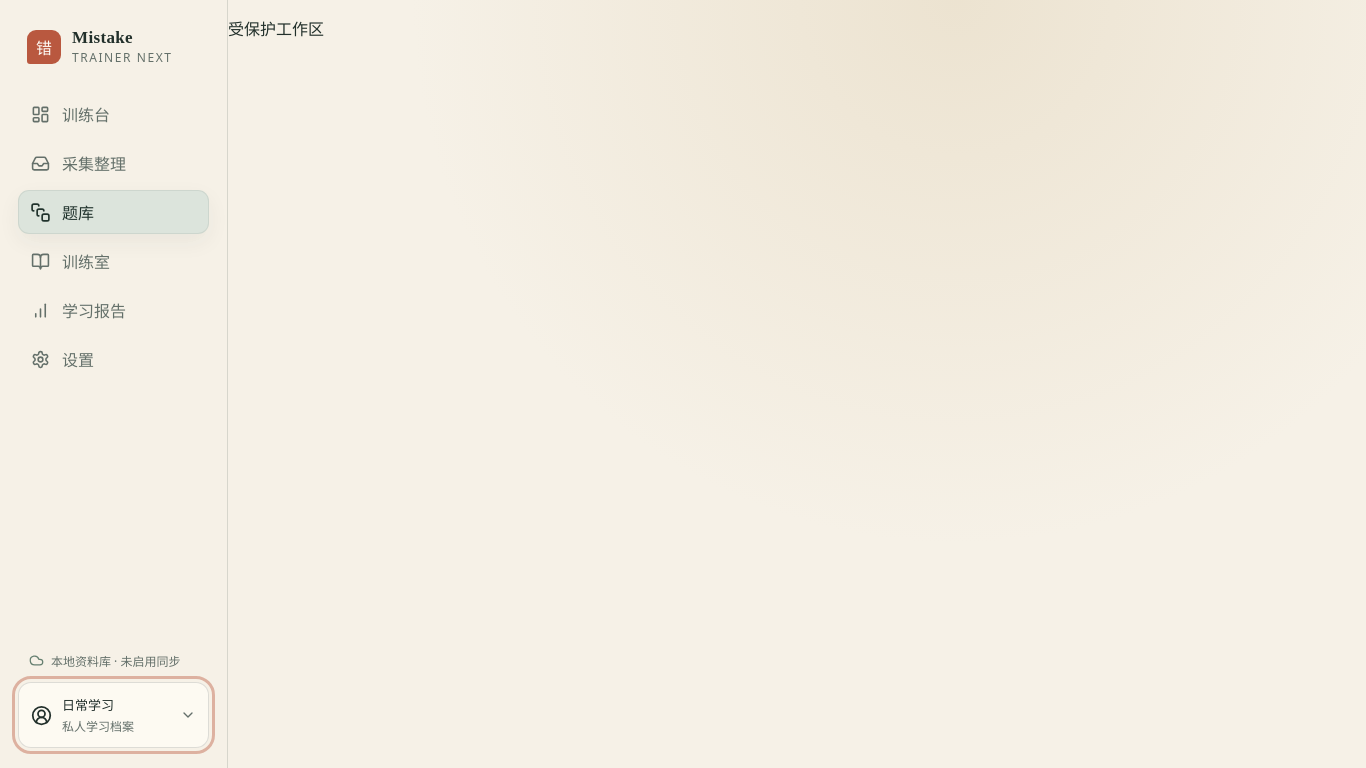
Test: App profile orchestration › keeps the current profile and route when the active workspace cancels a switch
Click the button with aria-label "当前学习档案：日常学习" at (114, 715), box 18,682 -> 209,748
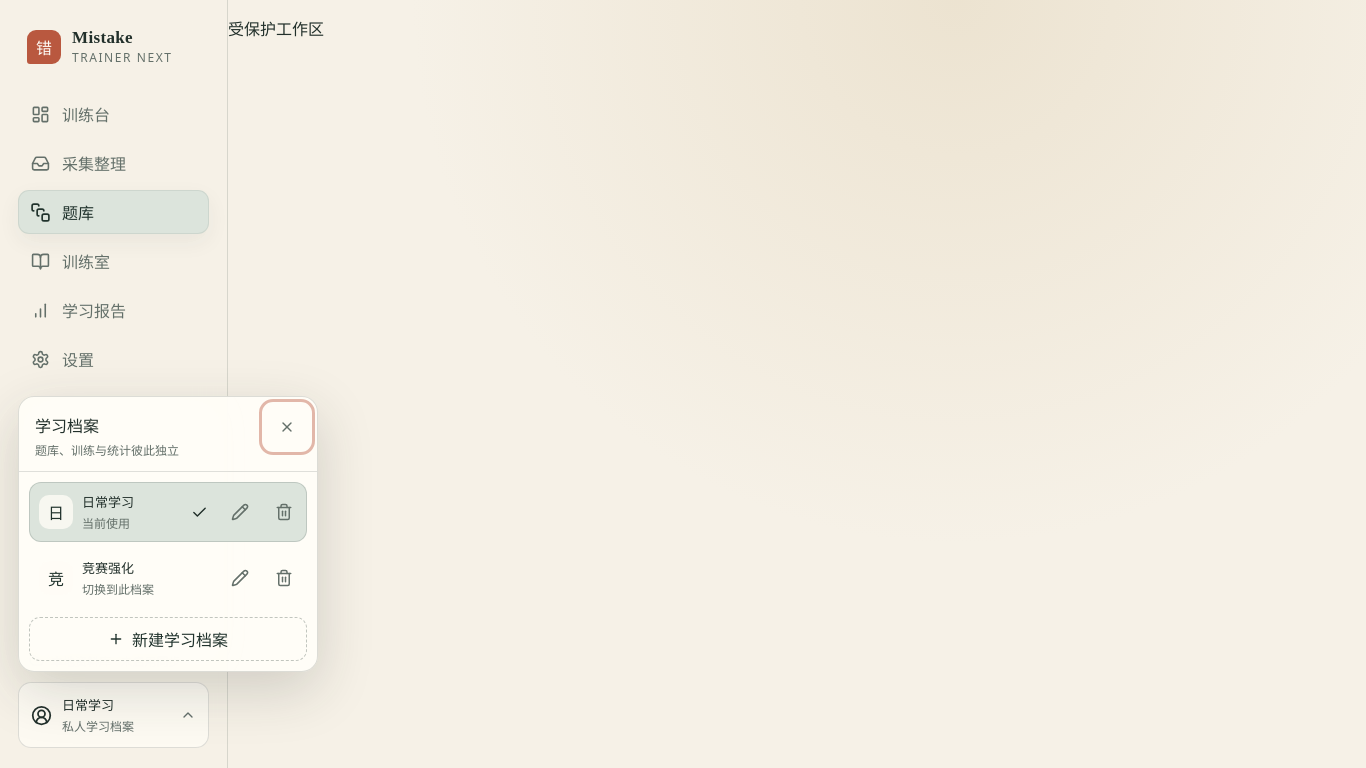
Click the button with aria-label "切换到档案：竞赛强化" at (124, 578), box 30,549 -> 218,607
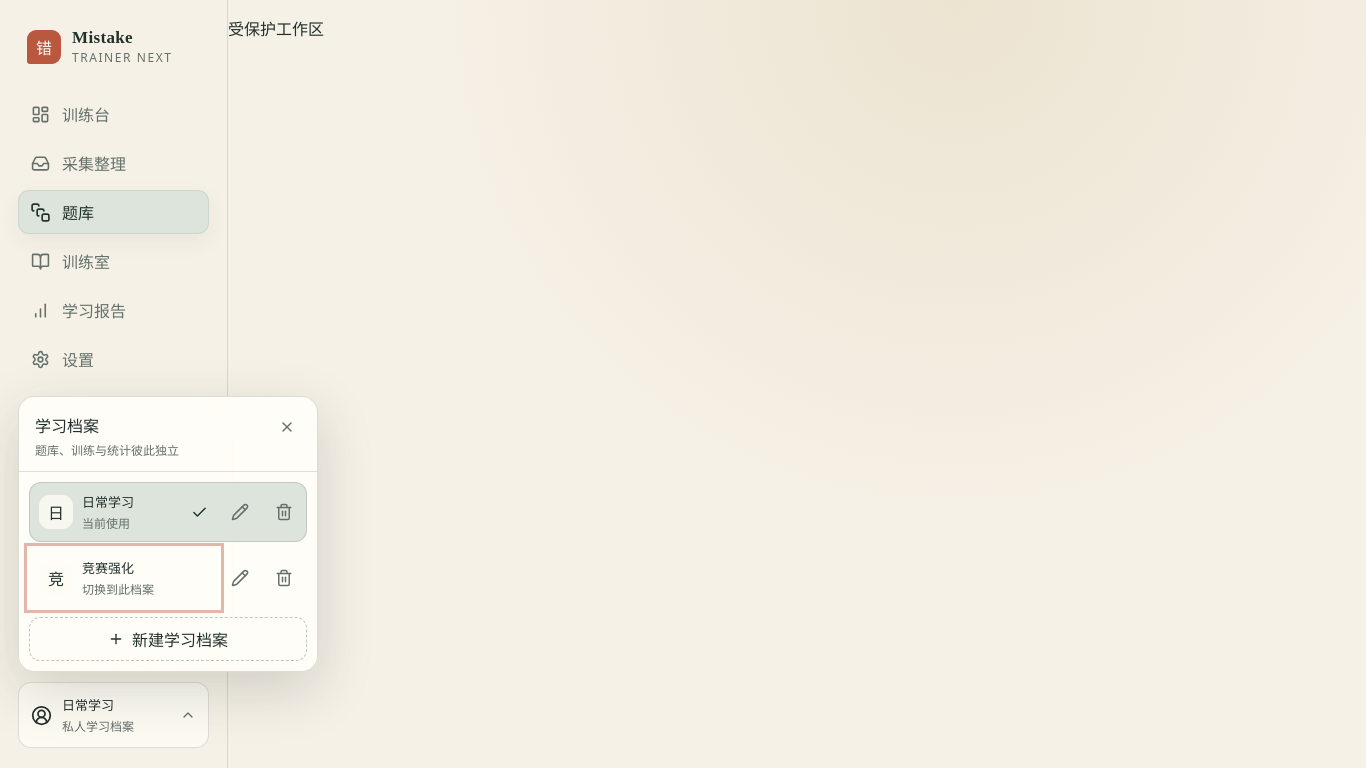
Expected: the button with aria-label "当前学习档案：日常学习" is shown, 18,682 -> 209,748
Expected: the button with aria-label "切换到档案：竞赛强化" is enabled
Click the button with aria-label "切换到档案：竞赛强化" at (124, 578), box 30,549 -> 218,607
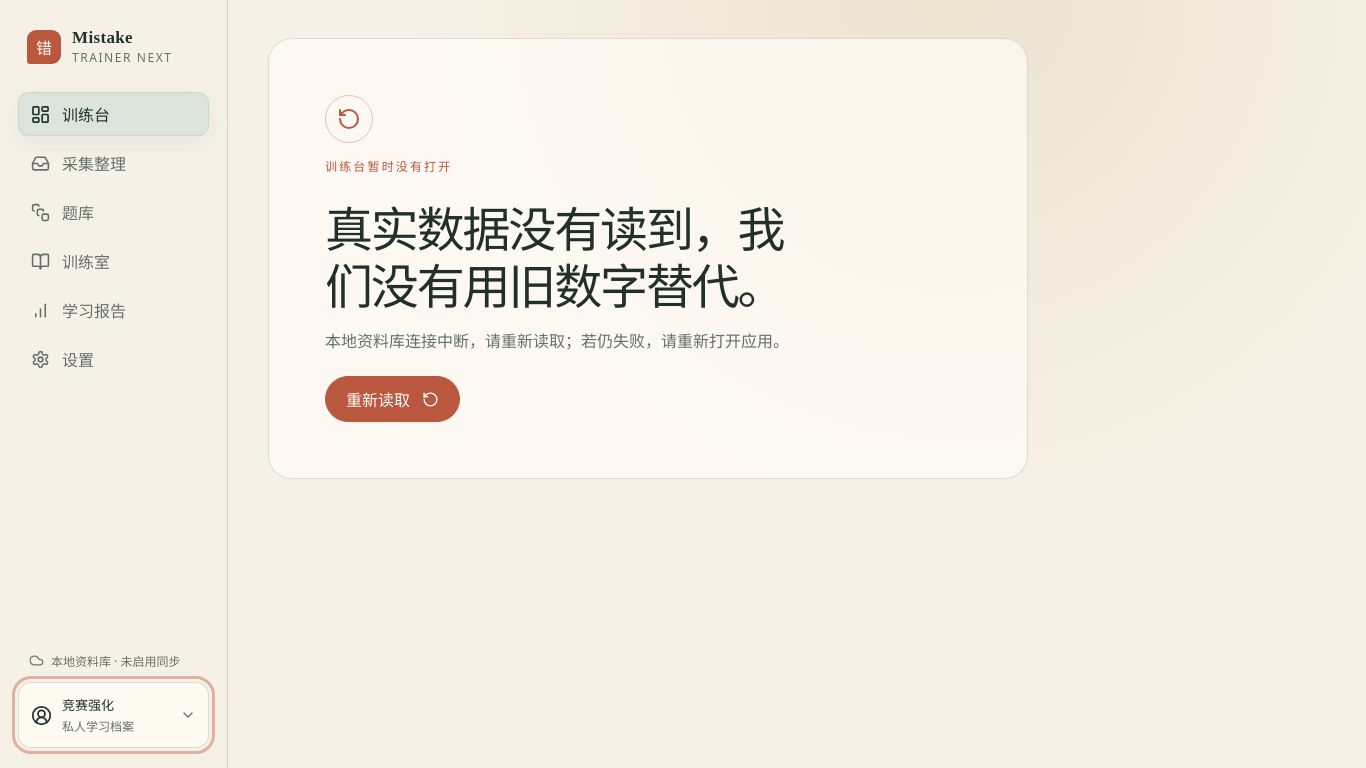
Expected: the button with aria-label "当前学习档案：竞赛强化" is shown, 18,682 -> 209,748
